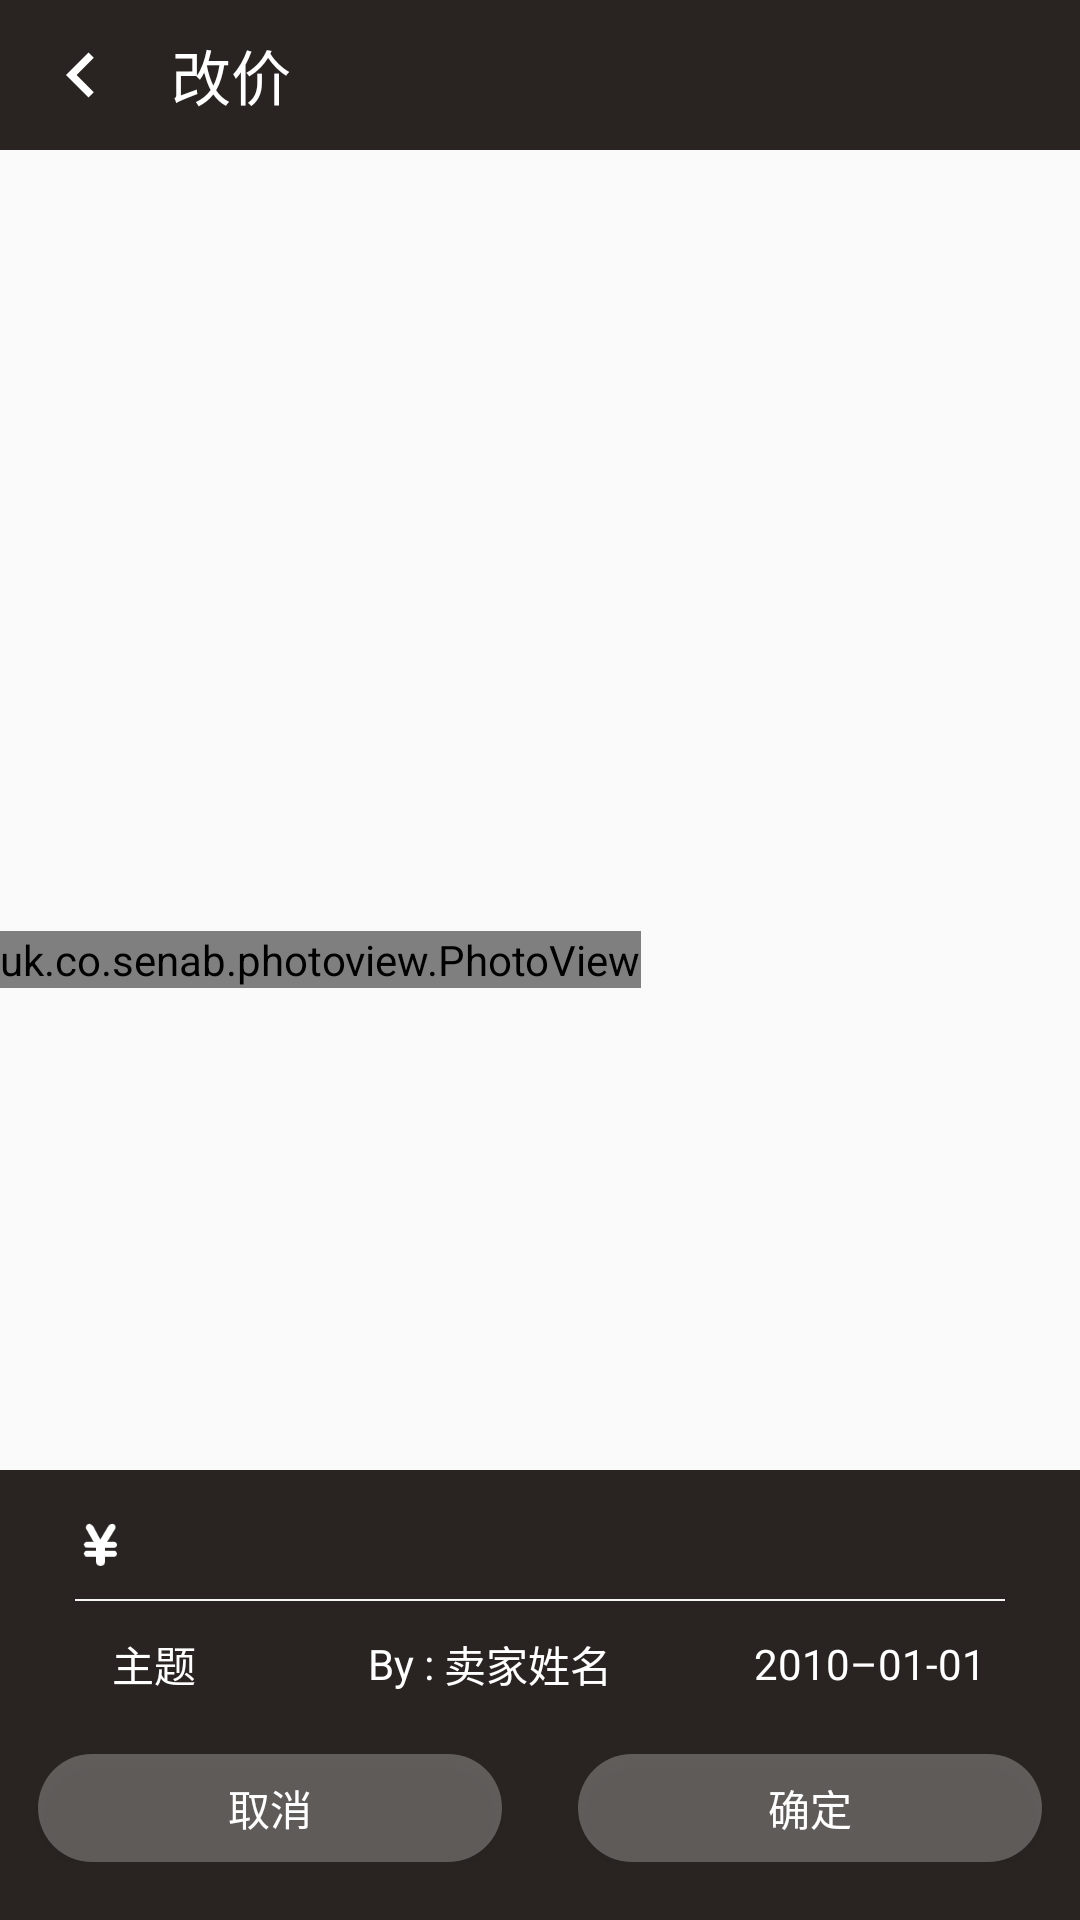

Where icons sit on this 1080px x 1920px app screen, as {"left": x1, "top": y1, "right": x2, "bottom": y2}:
back: {"left": 66, "top": 52, "right": 94, "bottom": 98}
money: {"left": 83, "top": 1523, "right": 117, "bottom": 1566}
